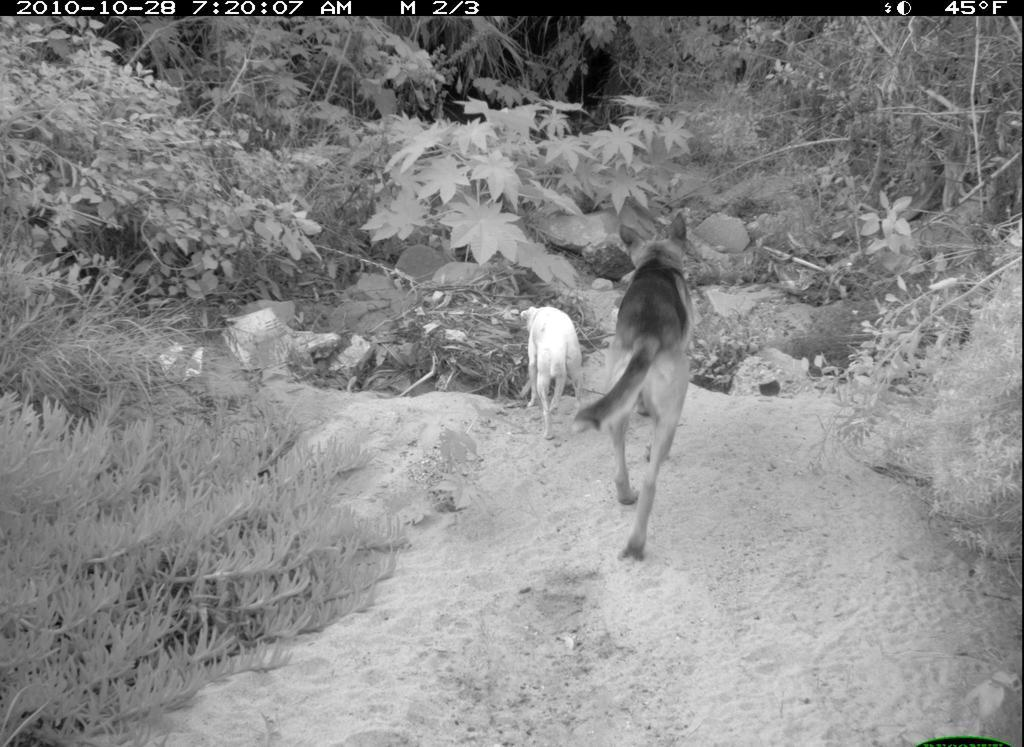dog: (571, 206, 705, 571), (514, 299, 588, 446)
